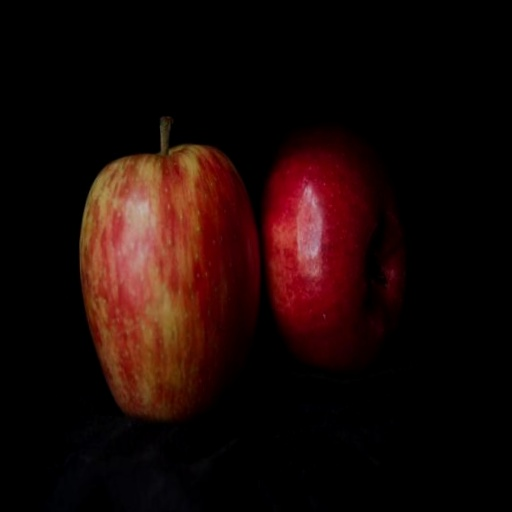fruit: (79, 118, 260, 421), (261, 124, 407, 374)
